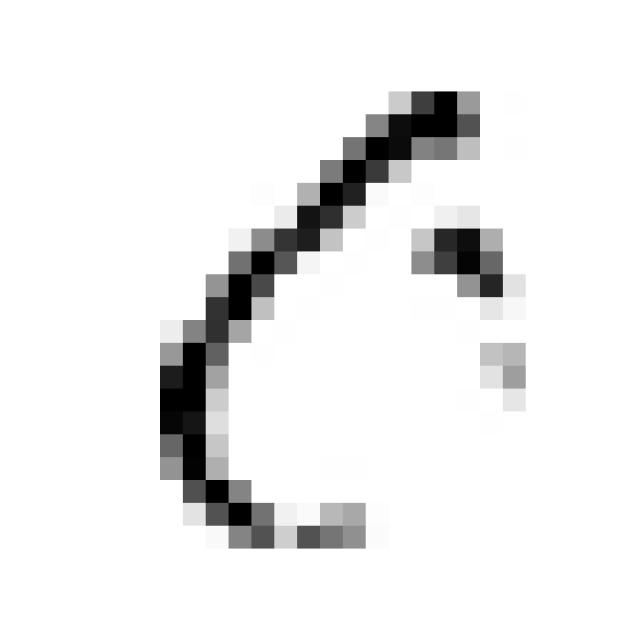5 -five-: (142, 73, 543, 561)
